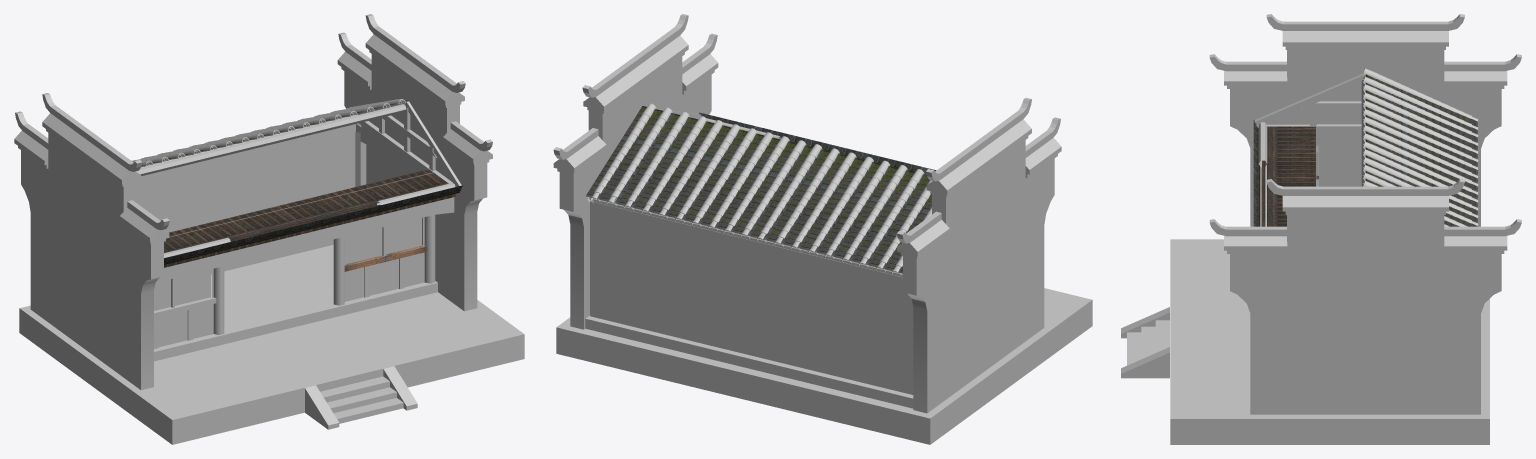
File: house04.fbx
The picture shows the model from 3 angles, left to right: view 1: azimuth 30°, elevation 25°; view 2: azimuth 150°, elevation 25°; view 3: azimuth 270°, elevation 25°; orthographic projection. The views are drawn at different scales.
Parts seen in each view (by area): view 1: house; view 2: house; view 3: house.
Boxes of the visible parts, <box> form: house: <box>14,14,524,444</box>; house: <box>553,14,1092,444</box>; house: <box>1121,14,1521,444</box>.
Bounding box in the file's own units: 271 × 180 × 255.
